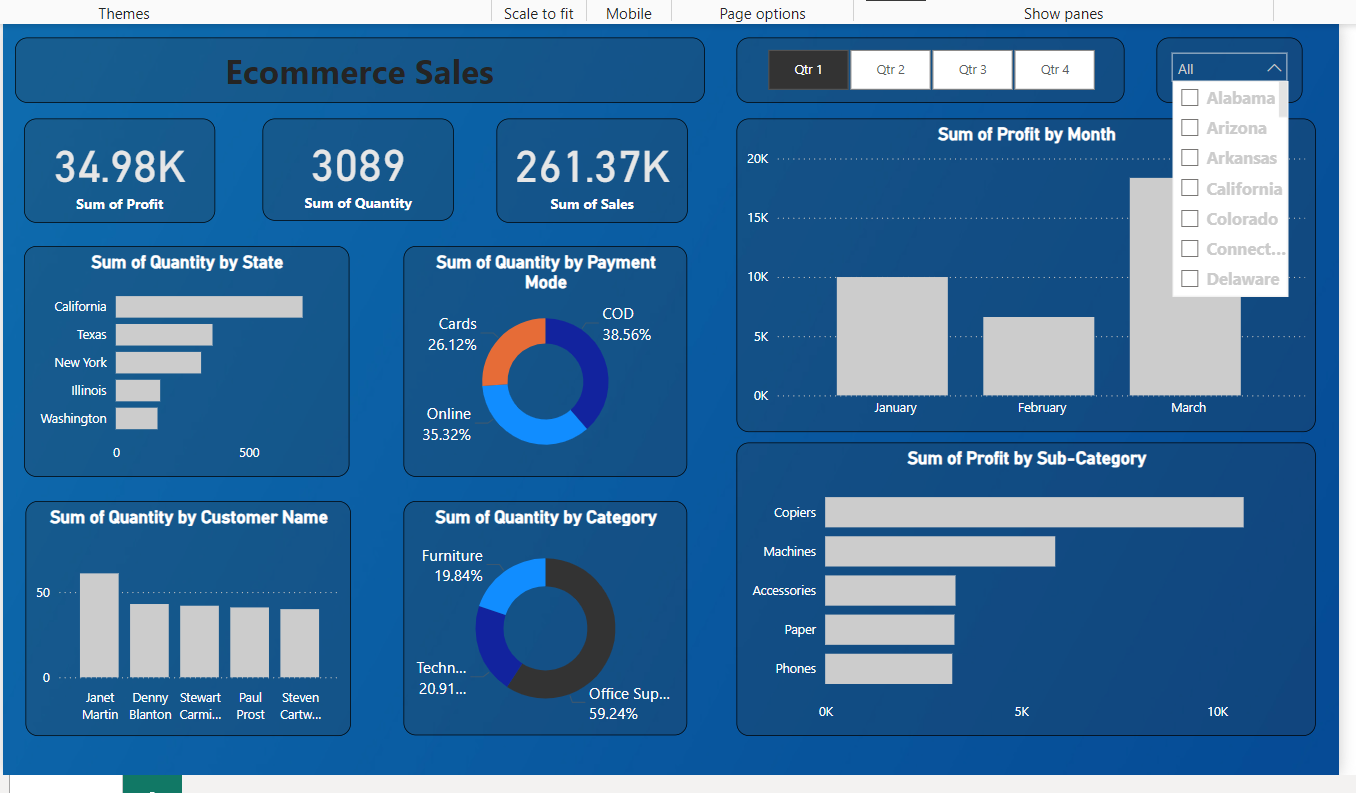

The dashboard page shown, as its layout file describes it:
{"tool":"powerbi","page":{"name":"Page 1","canvas":[1280,720],"ordinal":0},"visuals":[{"type":"textbox","box":[11.3,13.2,661.4,62.4],"z":0},{"type":"columnChart","fields":{"Category":["Details.Order Date.Variation.Date Hierarchy.Month"],"Y":["Sum(Details.Profit)"]},"box":[703,90.7,555.6,300.5],"z":1000},{"type":"barChart","fields":{"Category":["Details.Sub-Category"],"Y":["Sum(Details.Profit)"]},"box":[703,400.6,555.6,281.6],"z":2000},{"type":"donutChart","fields":{"Category":["Details.Category"],"Y":["Sum(Details.Quantity)"]},"box":[383.6,457.3,272.1,224.9],"z":3000},{"type":"donutChart","fields":{"Category":["Details.Payment Mode"],"Y":["Sum(Details.Quantity)"]},"box":[383.6,213.5,272.1,221.1],"z":4000},{"type":"card","fields":{"Values":["Sum(Details.Profit)"]},"box":[20.8,90.7,183.3,100.2],"z":5000},{"type":"card","fields":{"Values":["Sum(Details.Quantity)"]},"box":[249.5,90.7,183.3,98.3],"z":6000},{"type":"card","fields":{"Values":["Sum(Details.Sales)"]},"box":[472.4,90.7,183.3,100.2],"z":7000},{"type":"barChart","fields":{"Category":["Details.State"],"Y":["Sum(Details.Quantity)"]},"box":[20.8,213.5,311.8,221.1],"z":8000},{"type":"columnChart","fields":{"Category":["Details.Customer Name"],"Y":["Sum(Details.Quantity)"]},"box":[21,457,312,225],"z":9000},{"type":"slicer","fields":{"Values":["Details.Order Date.Variation.Date Hierarchy.Quarter"]},"box":[703,13.2,372.3,62.4],"z":10000},{"type":"slicer","fields":{"Values":["Details.State"]},"box":[1105.5,13.2,139.8,62.4],"z":11000}]}

Visuals, with their boxes on the page's 1280x720 design canvas (x1, y1, x2, y2). These are canvas units, not pixel positions in the 1356x793 screenshot, which may show the page scaled, cropped or inside an application window:
textbox: [11,13,673,76]
columnChart - Details.Order Date.Variation.Date Hierarchy.Month x Sum(Details.Profit): [703,91,1259,391]
barChart - Details.Sub-Category x Sum(Details.Profit): [703,401,1259,682]
donutChart - Details.Category x Sum(Details.Quantity): [384,457,656,682]
donutChart - Details.Payment Mode x Sum(Details.Quantity): [384,214,656,435]
card - Sum(Details.Profit): [21,91,204,191]
card - Sum(Details.Quantity): [250,91,433,189]
card - Sum(Details.Sales): [472,91,656,191]
barChart - Details.State x Sum(Details.Quantity): [21,214,333,435]
columnChart - Details.Customer Name x Sum(Details.Quantity): [21,457,333,682]
slicer - Details.Order Date.Variation.Date Hierarchy.Quarter: [703,13,1075,76]
slicer - Details.State: [1106,13,1245,76]
